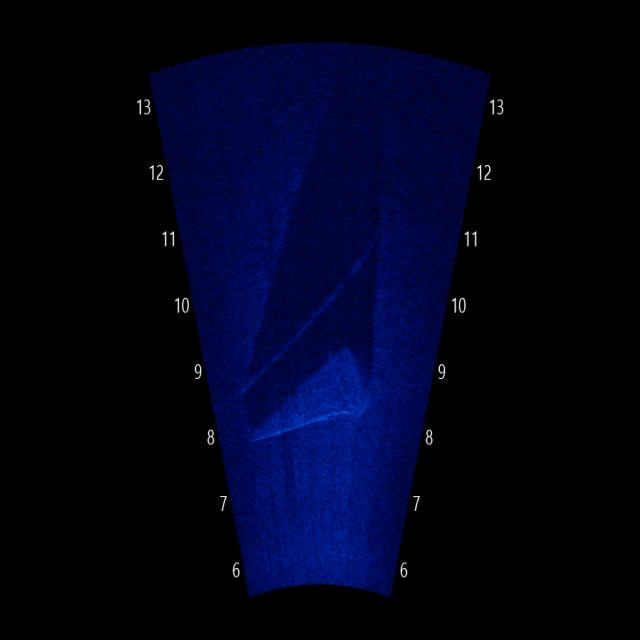triangle: (246, 329, 383, 453)
